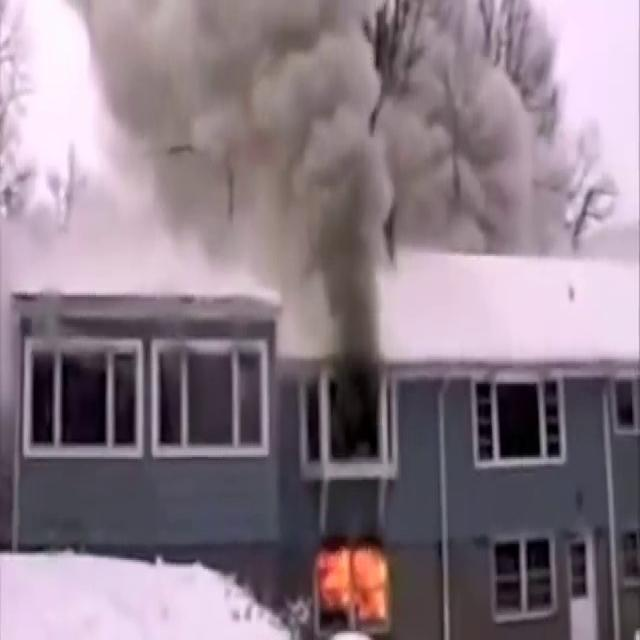Fire: (308, 542, 389, 626)
Smoke: (20, 0, 557, 324)
